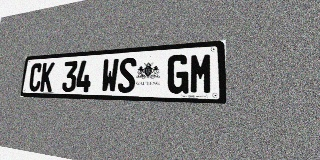3: (61, 61, 78, 92)
4: (75, 60, 92, 92)
C: (28, 63, 43, 91)
G: (167, 54, 189, 94)
K: (40, 62, 55, 92)
M: (189, 53, 213, 94)
S: (117, 57, 137, 93)
W: (101, 58, 119, 93)
